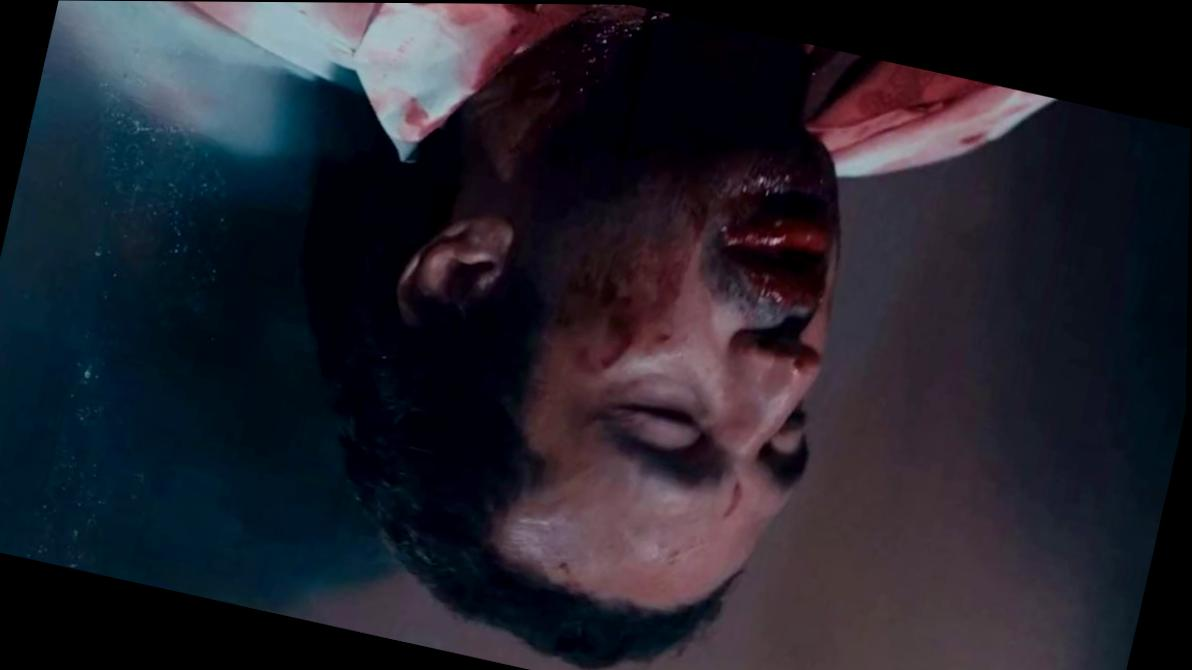Fire: (186, 1, 1055, 362), (794, 349, 811, 371)
